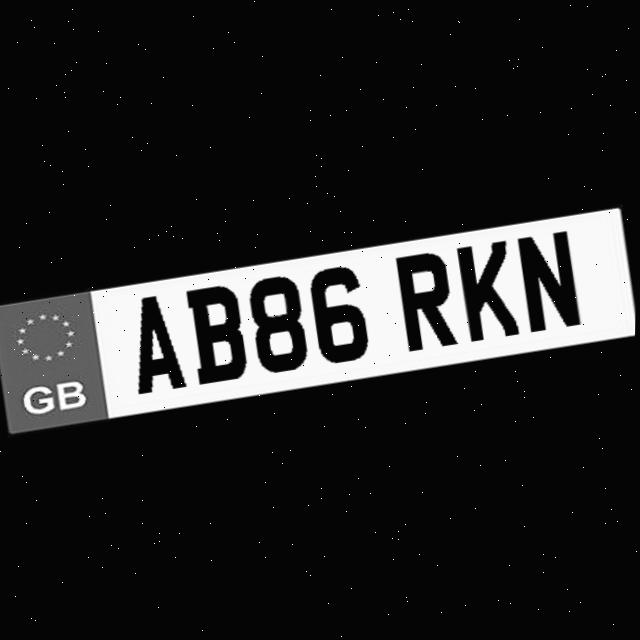license-plates: (0, 206, 636, 433)
